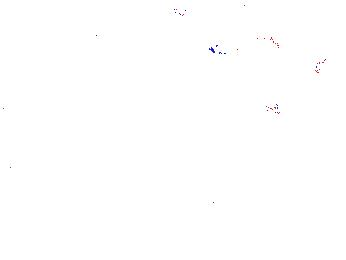red belly glassfish: (303, 57, 329, 81), (263, 98, 291, 118), (171, 5, 203, 20)
redtail glassfish: (158, 181, 214, 220), (206, 32, 277, 57)
siberian prawn: (34, 223, 106, 252)
